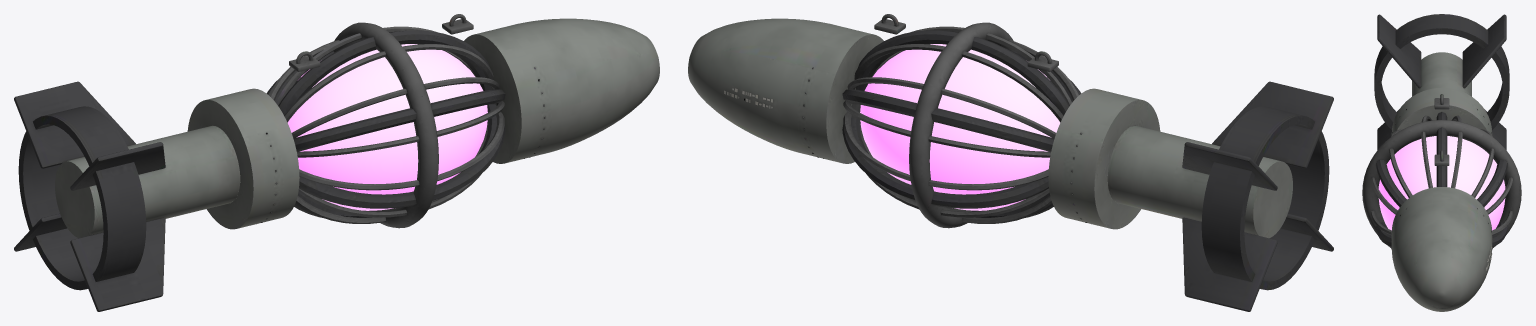
Rendered from exp_plasma.glb.
The picture shows the model from 3 angles, left to right: view 1: azimuth 30°, elevation 25°; view 2: azimuth 150°, elevation 25°; view 3: azimuth 270°, elevation 25°; orthographic projection. The views are drawn at different scales.
Visible parts, largest first — view 1: exp_plasma; view 2: exp_plasma; view 3: exp_plasma.
Part boxes in pixels (left/top/right/bottom): exp_plasma: left=14, top=14, right=659, bottom=311; exp_plasma: left=688, top=14, right=1333, bottom=311; exp_plasma: left=1362, top=14, right=1521, bottom=311.
Bounding box in the file's own units: 0.785 × 0.238 × 0.238.
Materials: 5 (4 with a texture image).
